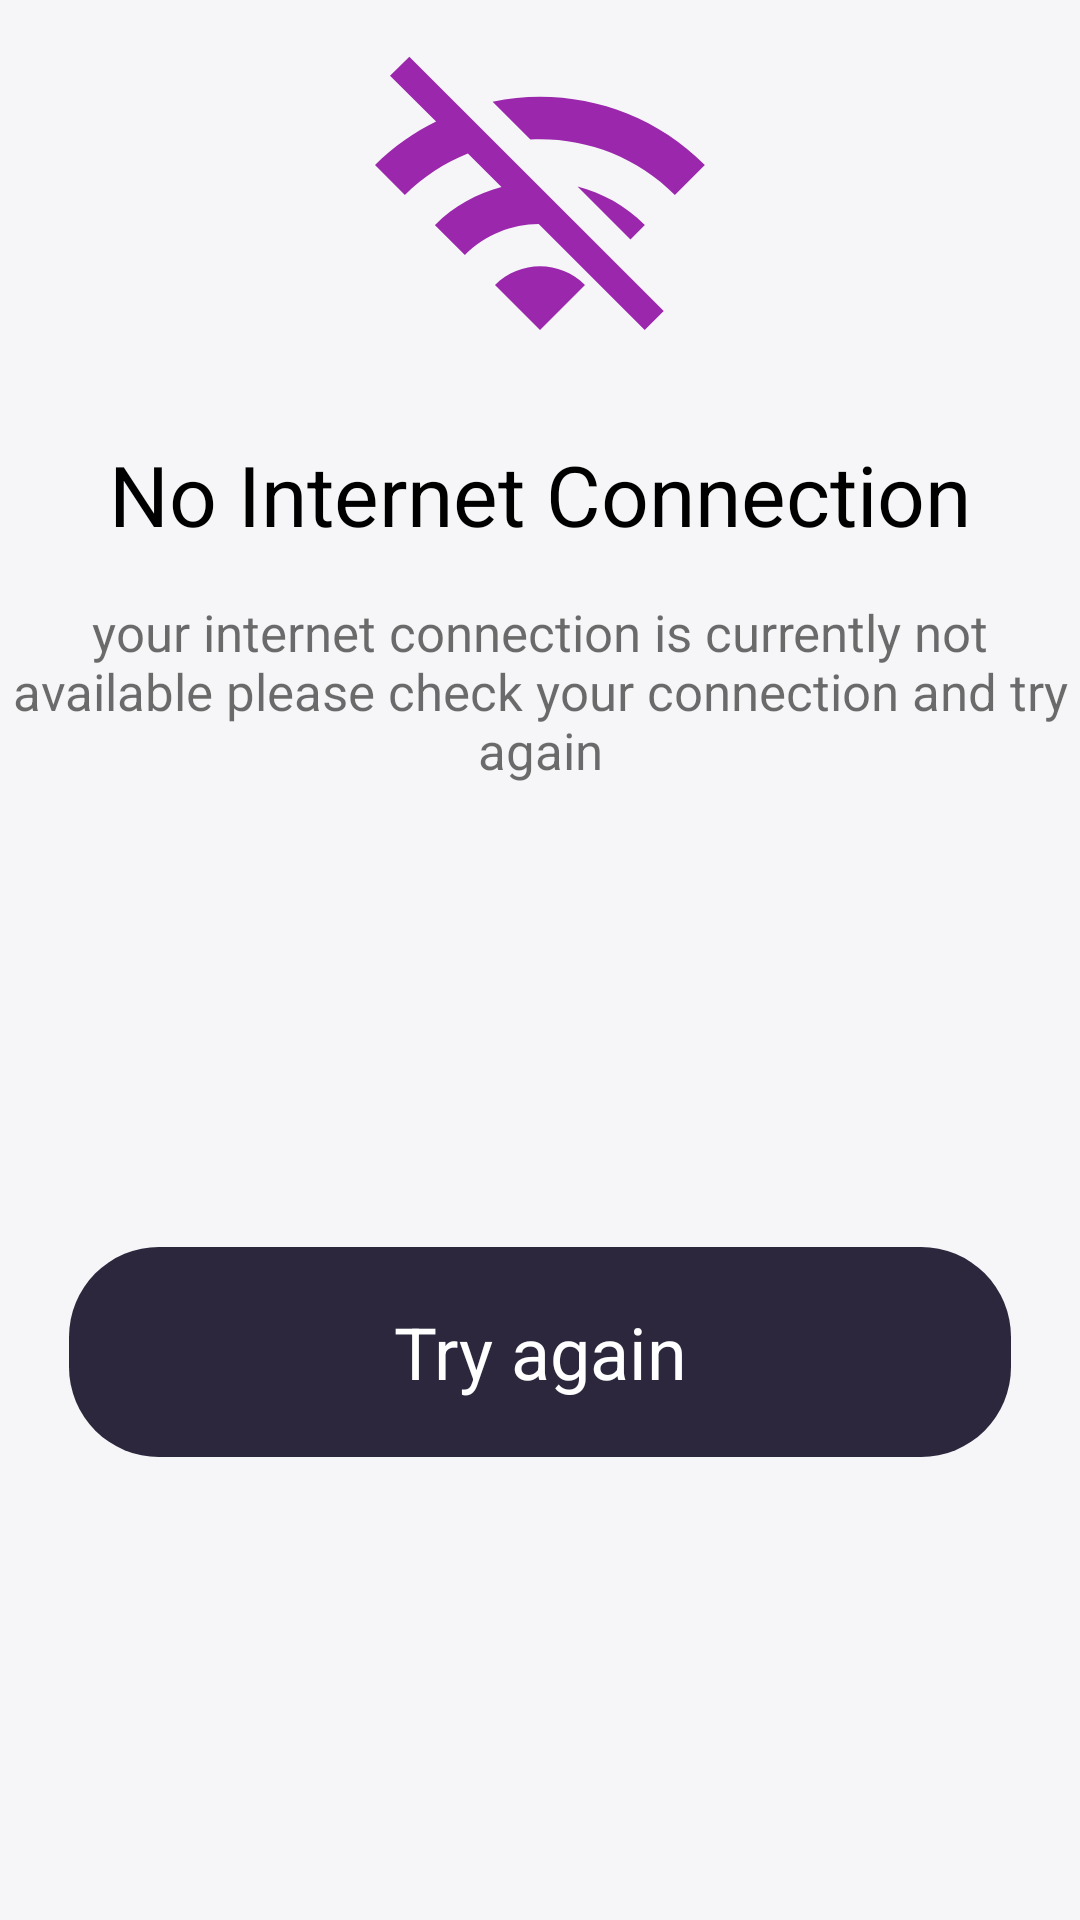

Where icons sit on this 1080 x 1920 app screen, as (x1, y1, x2, y2):
wifi off: (375, 57, 705, 330)
